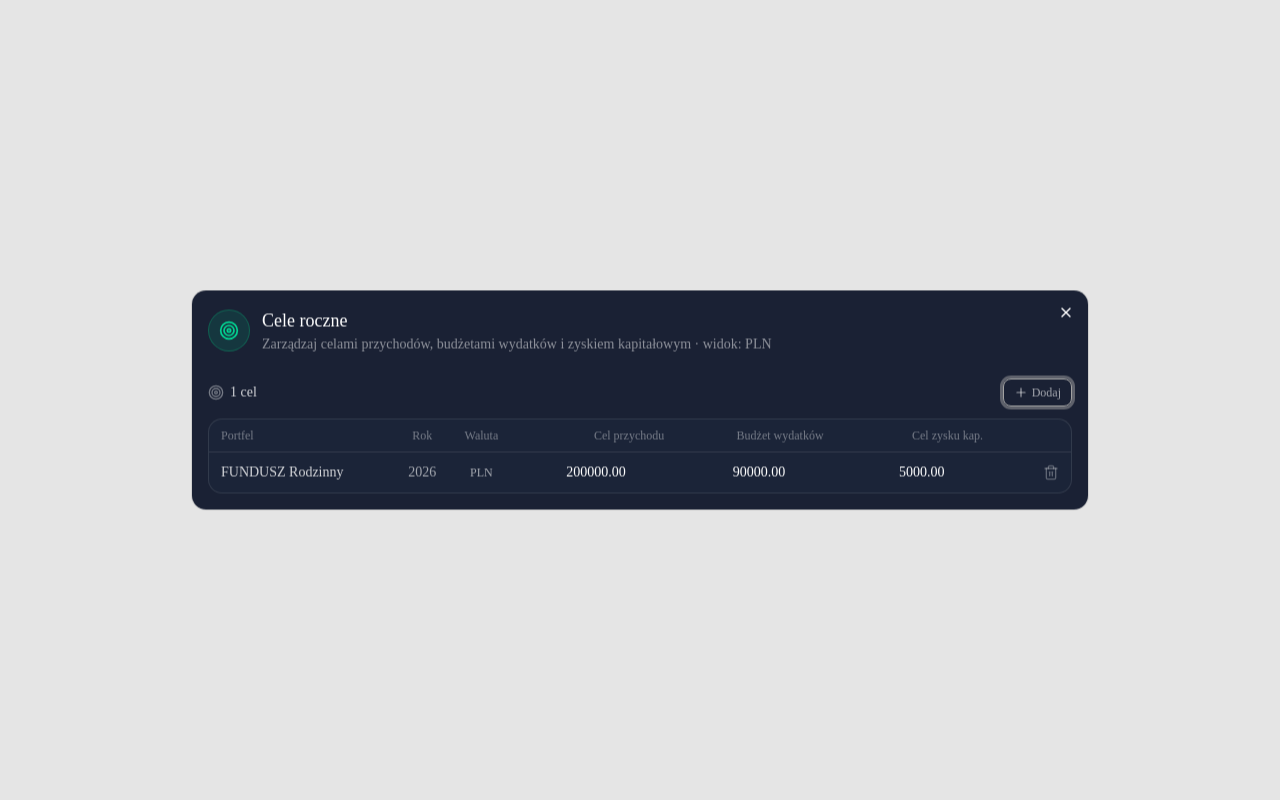
Test: GoalsDialog › validates edited annual goal capital gain targets before updating an existing row
This screenshot has width=1280, height=800.
Expected: the text "FUNDUSZ Rodzinny" is shown, top-left (221, 464), bottom-right (344, 480)
Replace the text in the 3rd field showing "5000.00" with "-1" at coordinates (895, 472), box top-left (840, 458), bottom-right (950, 486)
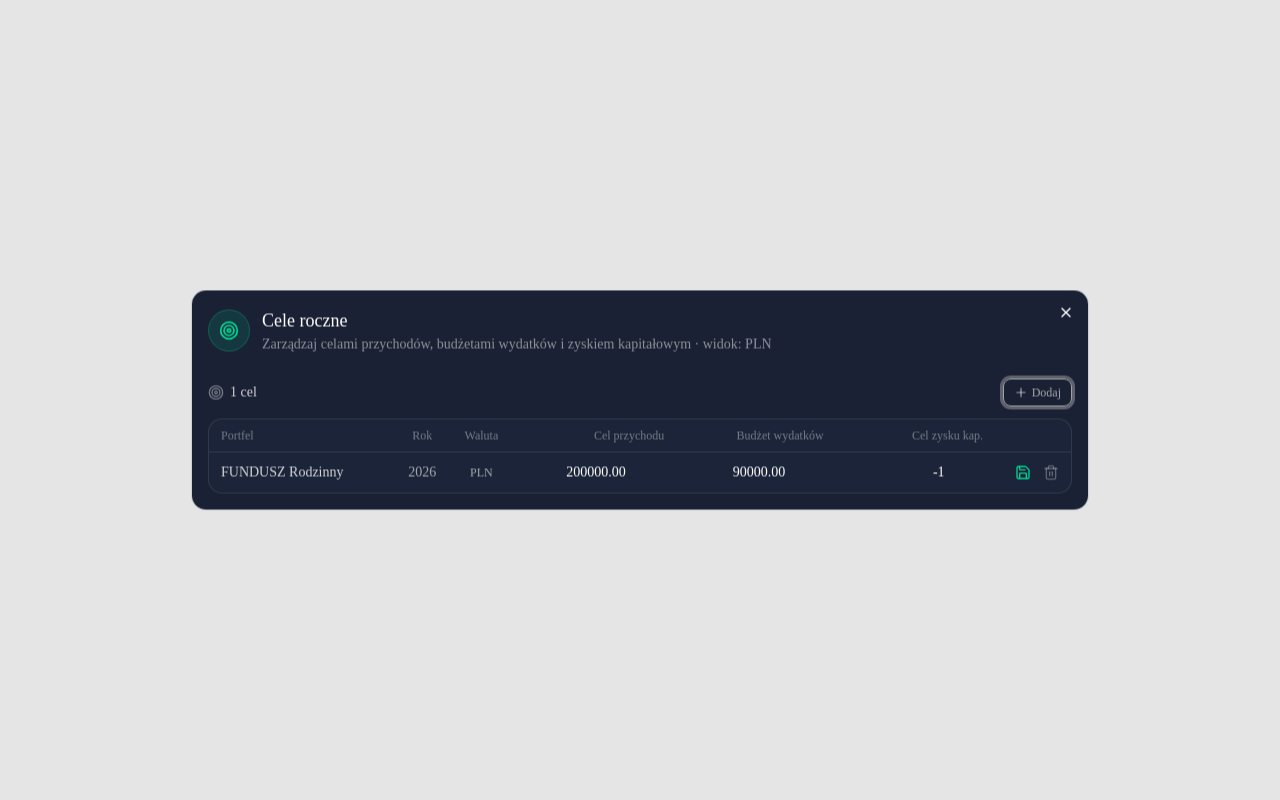
Click the 3rd button at coordinates (1023, 472), box top-left (1011, 460), bottom-right (1035, 484)
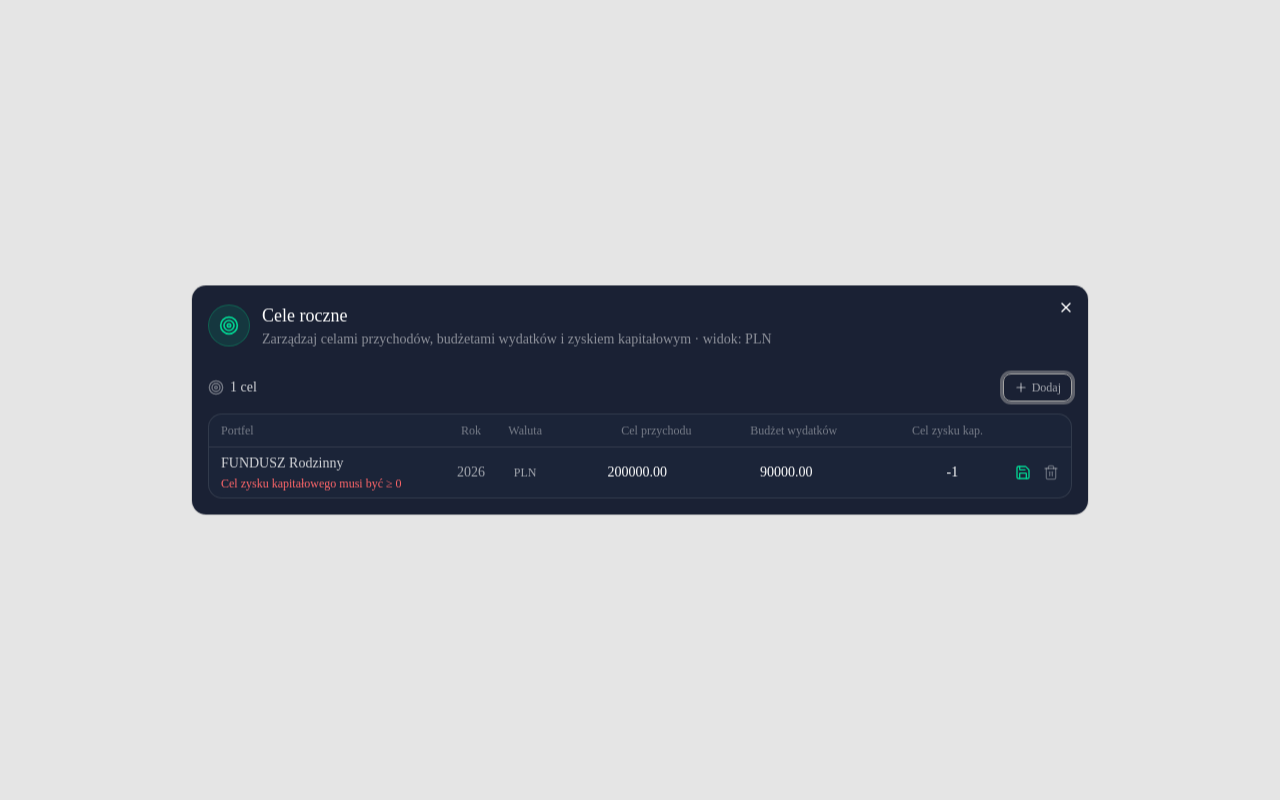
Expected: the text "Cel zysku kapitałowego musi być ≥ 0" is shown, top-left (221, 476), bottom-right (402, 490)
